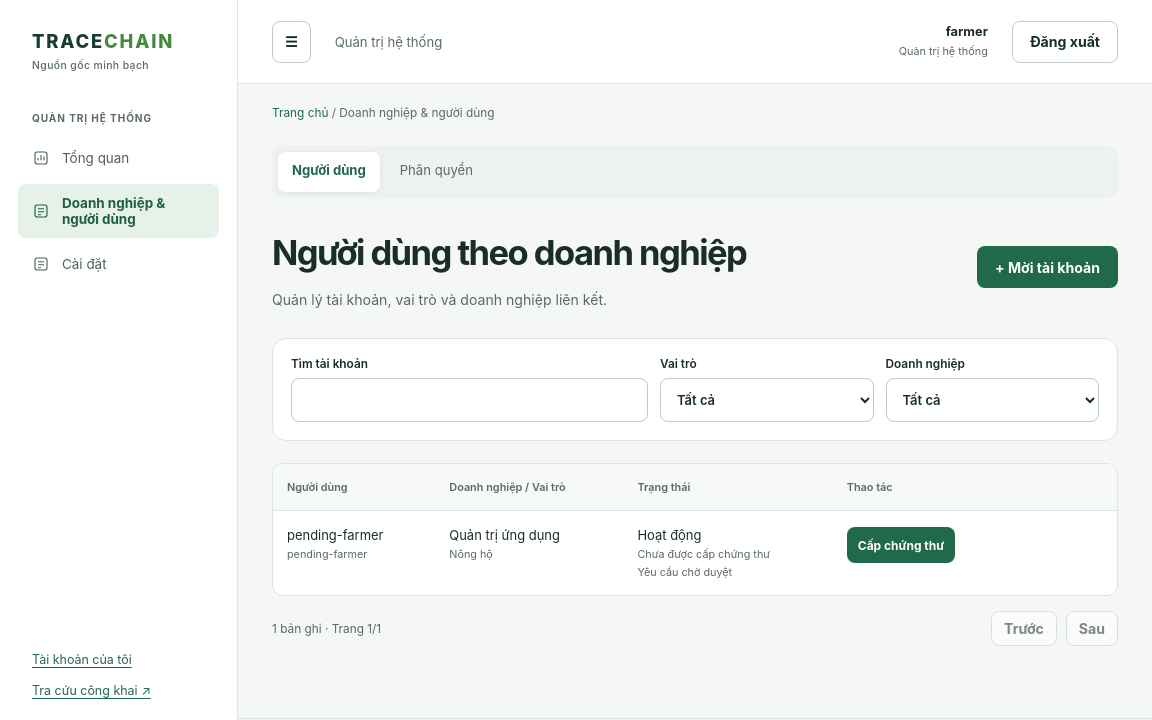
does not claim a signer is active when issuance was only queued
Step 1. Click the button "Cấp chứng thư" → (901, 545), box [847,527,955,563]
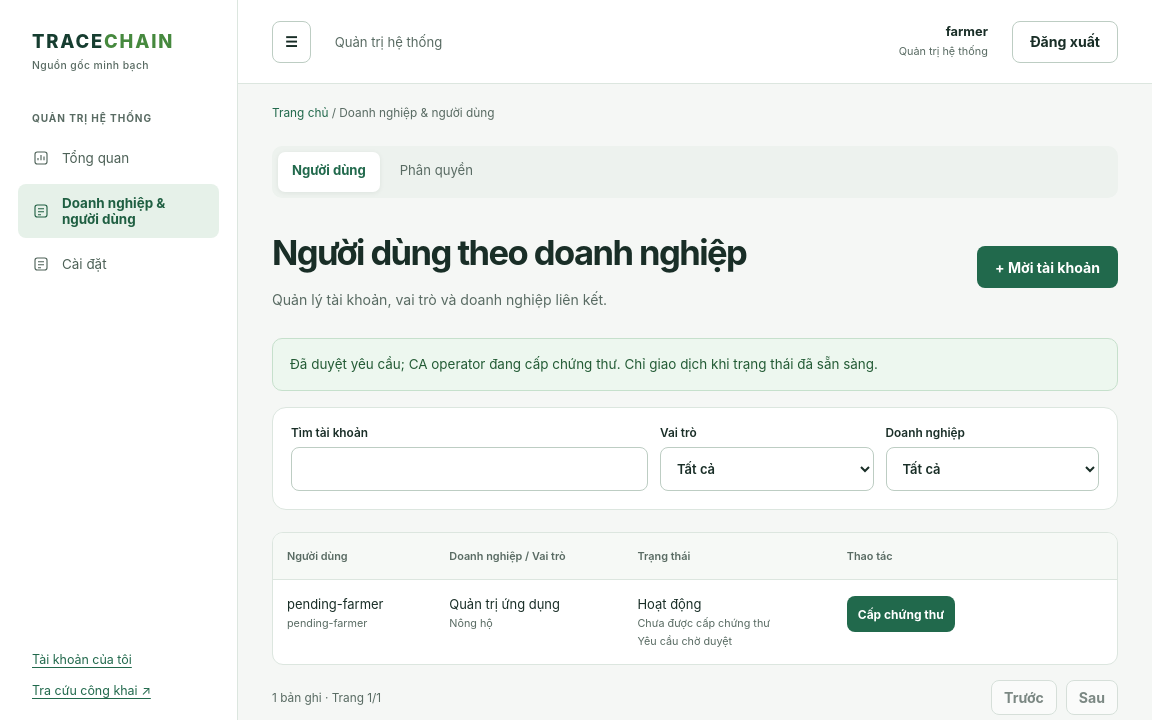
Expected: the text "Đã duyệt yêu cầu; CA operator đang cấp chứng thư" is shown, [290,356,878,372]
